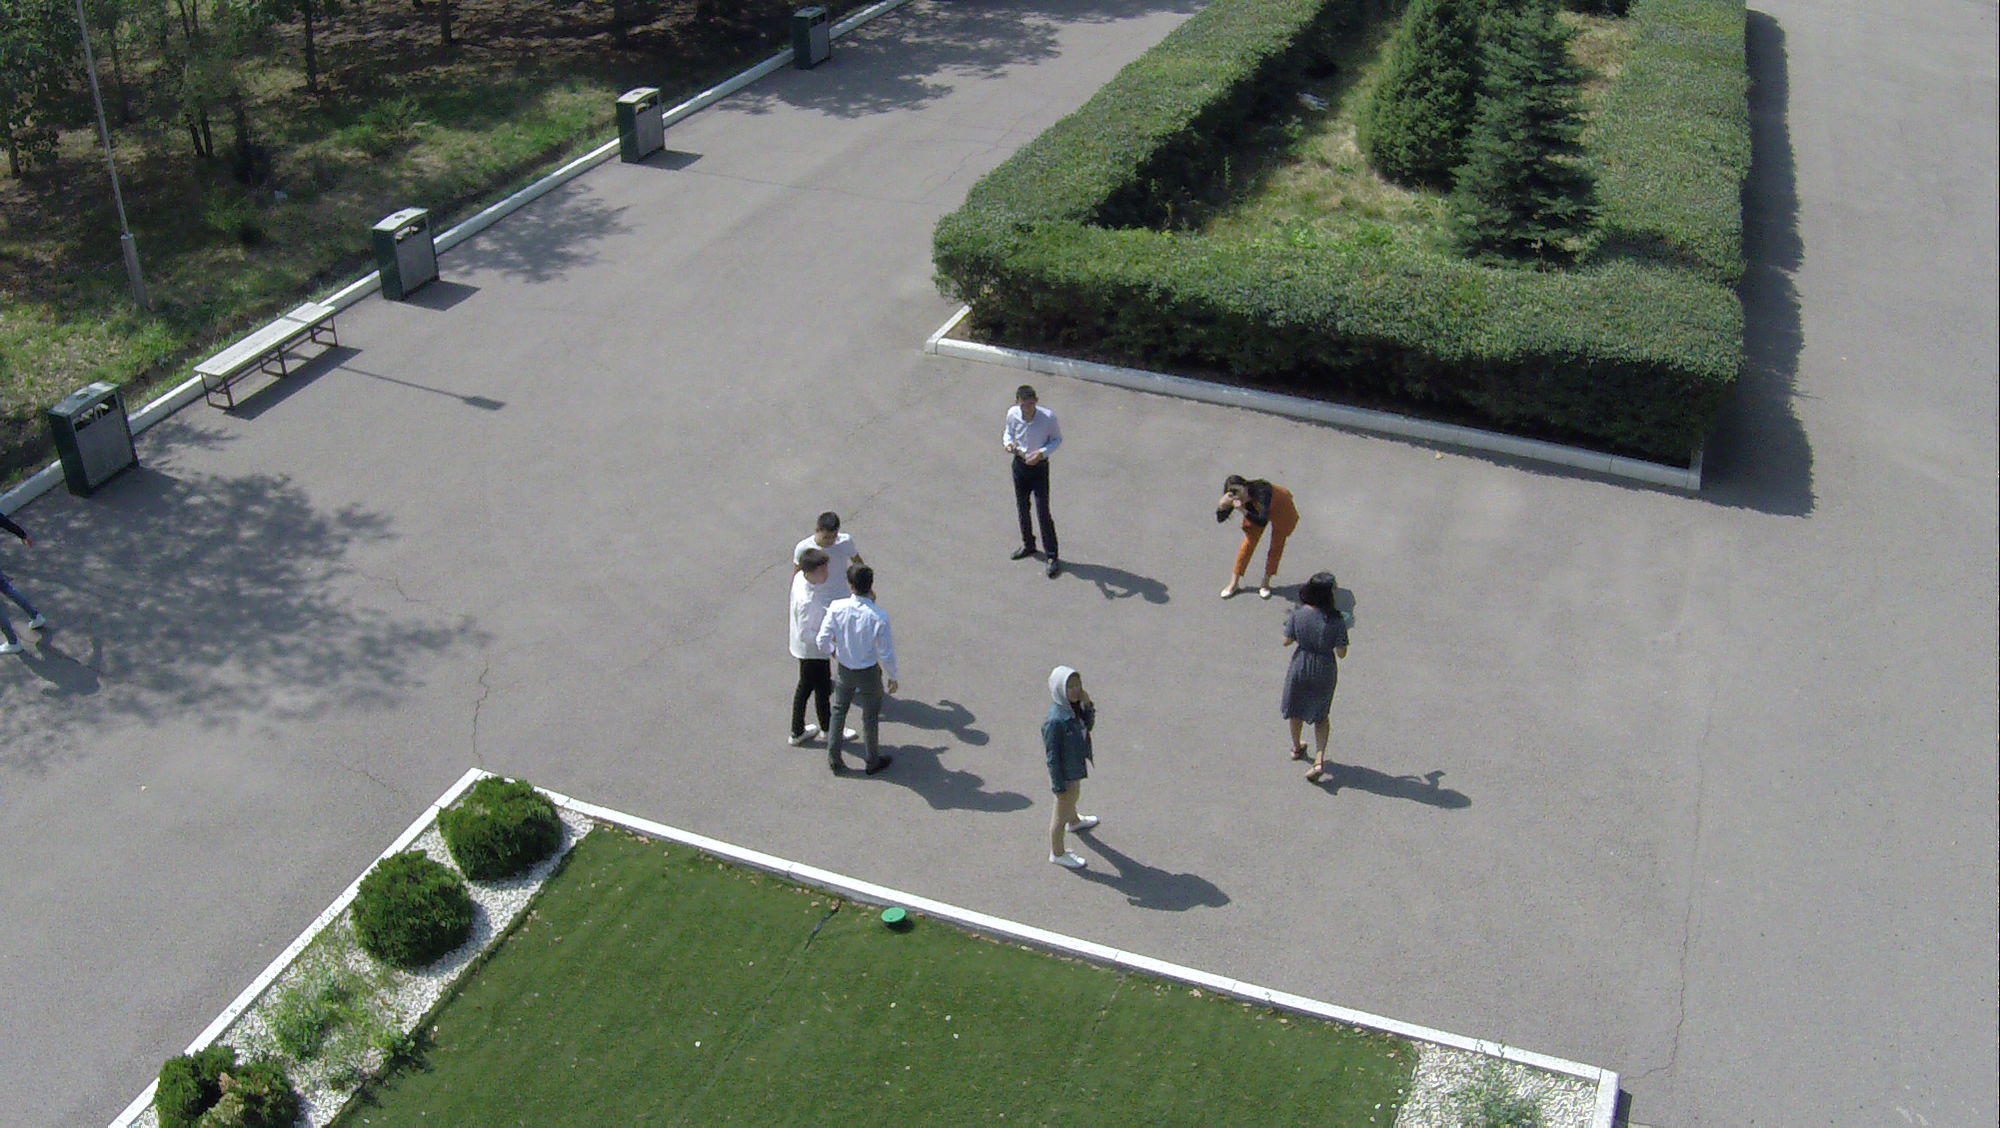person: (1262, 570, 1360, 799), (1024, 668, 1095, 885), (778, 547, 855, 739), (816, 572, 885, 774), (1003, 383, 1070, 585), (797, 510, 862, 674), (1216, 472, 1299, 595)
